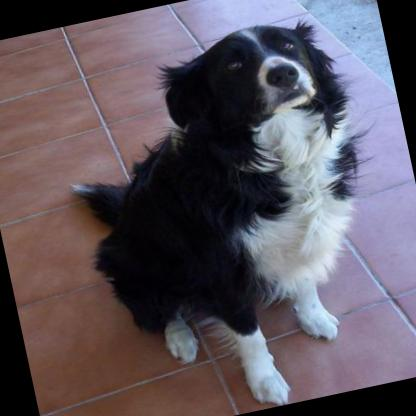collie: (46, 4, 409, 416)
